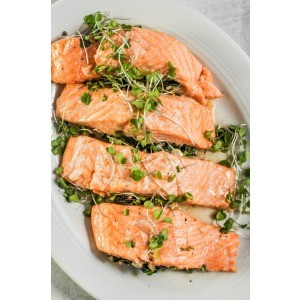salmon_brain food: (65, 42, 204, 134), (62, 153, 230, 199), (80, 217, 240, 260)
